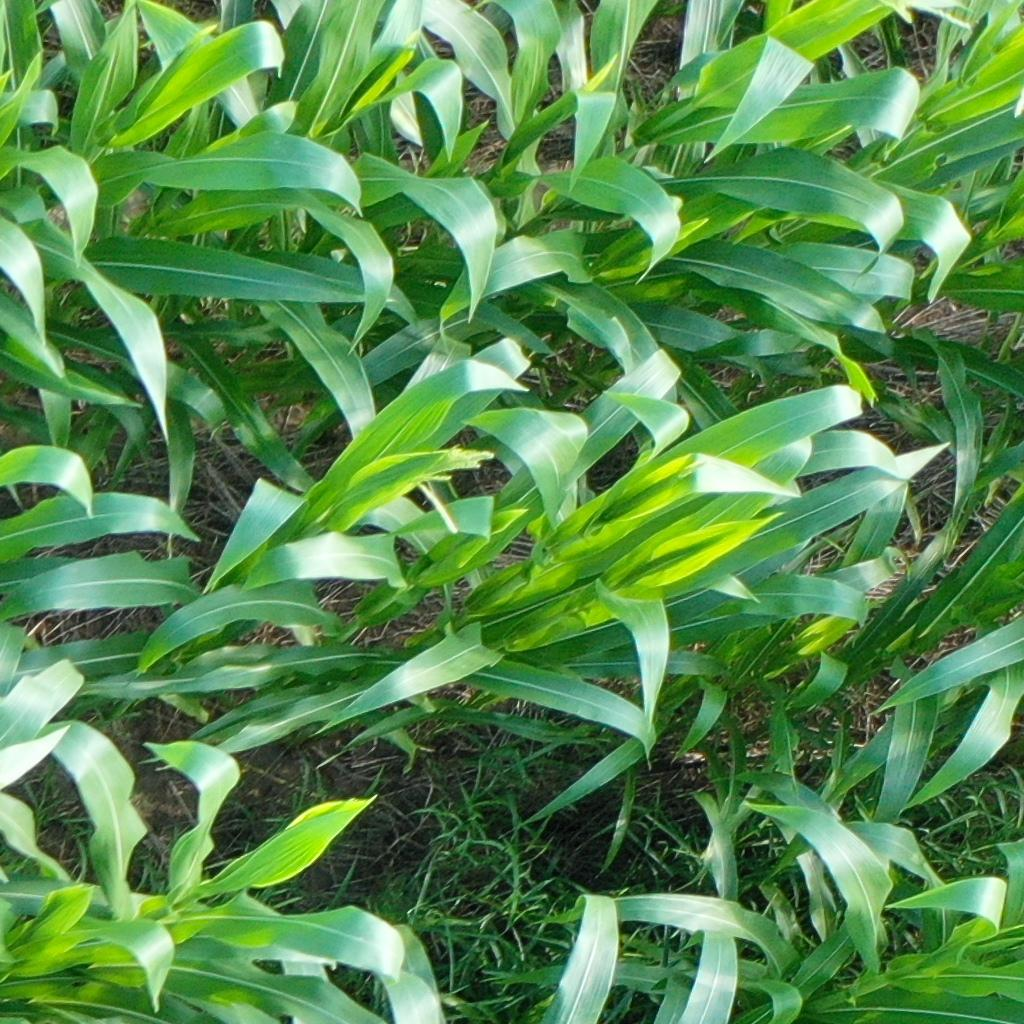Tassel: (416, 441, 499, 539), (889, 1, 977, 33)
